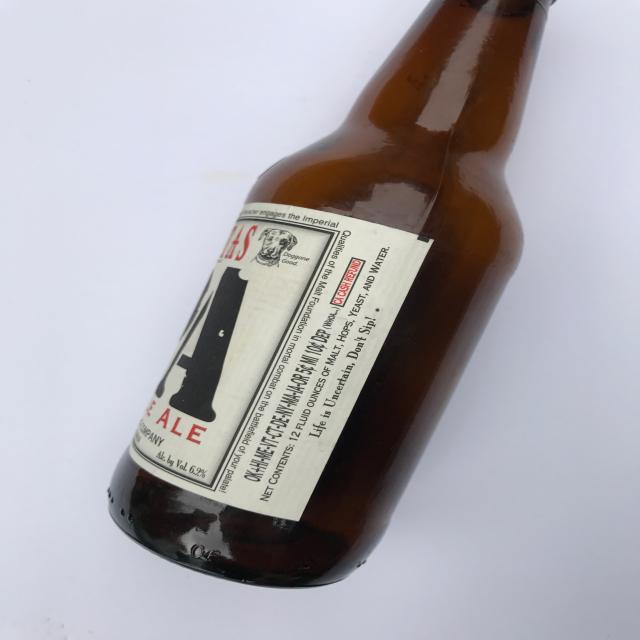glass: (98, 0, 559, 586)
